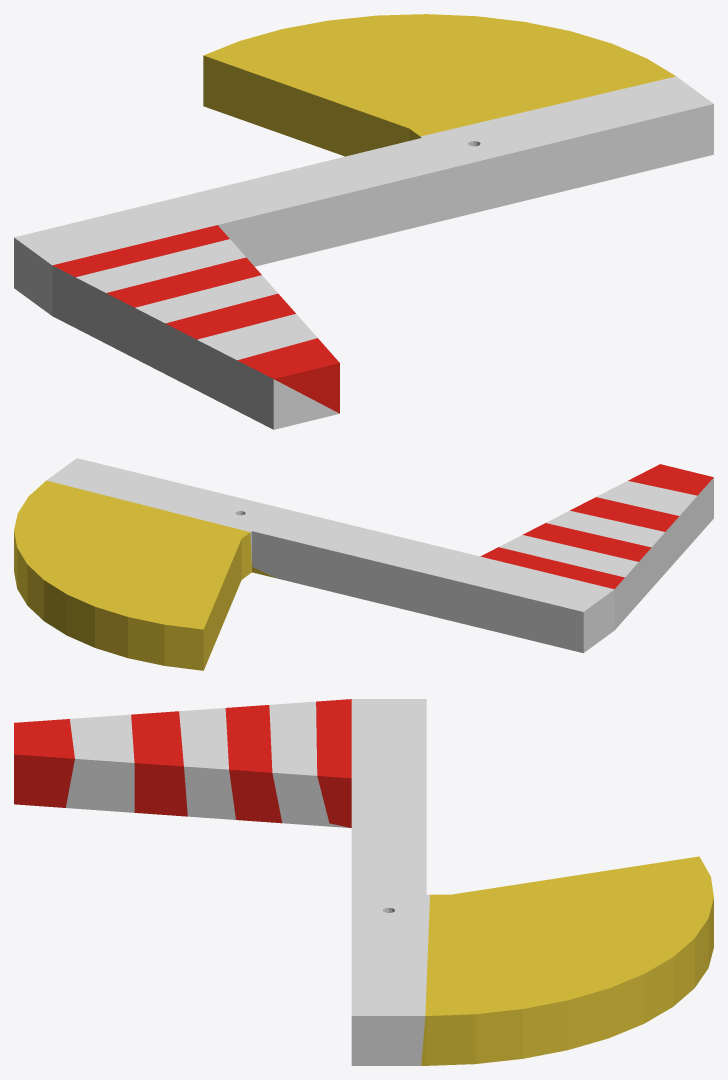
File: manchon_jaune.dae
3 views of the same model, one above another, from view 1: azimuth 30°, elevation 25°; view 2: azimuth 150°, elevation 25°; view 3: azimuth 270°, elevation 25° (orthographic). The views are drawn at different scales.
Visible parts, largest first — view 1: Manchon Bleu, Manchon Bleu.001, Manchon Bleu.002, Manchon Bleu.007, Manchon Bleu.006, Manchon Bleu.008, Manchon Bleu.005, Manchon Bleu.003, Manchon Bleu.004; view 2: Manchon Bleu, Manchon Bleu.001, Manchon Bleu.007, Manchon Bleu.006, Manchon Bleu.008, Manchon Bleu.005, Manchon Bleu.003, Manchon Bleu.004, Manchon Bleu.002; view 3: Manchon Bleu.001, Manchon Bleu, Manchon Bleu.003, Manchon Bleu.007, Manchon Bleu.004, Manchon Bleu.006, Manchon Bleu.005, Manchon Bleu.002, Manchon Bleu.008.
Boxes of the visible parts, left/top/right/bottom form: Manchon Bleu: left=14, top=76, right=713, bottom=429; Manchon Bleu.001: left=203, top=14, right=675, bottom=156; Manchon Bleu.002: left=237, top=338, right=339, bottom=413; Manchon Bleu.007: left=76, top=239, right=245, bottom=292; Manchon Bleu.006: left=106, top=257, right=261, bottom=307; Manchon Bleu.008: left=52, top=225, right=229, bottom=277; Manchon Bleu.005: left=135, top=275, right=277, bottom=323; Manchon Bleu.003: left=197, top=314, right=317, bottom=360; Manchon Bleu.004: left=165, top=293, right=295, bottom=339; Manchon Bleu: left=46, top=458, right=713, bottom=653; Manchon Bleu.001: left=14, top=480, right=275, bottom=670; Manchon Bleu.007: left=499, top=535, right=638, bottom=577; Manchon Bleu.006: left=522, top=523, right=651, bottom=561; Manchon Bleu.008: left=480, top=547, right=624, bottom=589; Manchon Bleu.005: left=546, top=510, right=664, bottom=547; Manchon Bleu.003: left=596, top=481, right=696, bottom=515; Manchon Bleu.004: left=570, top=497, right=679, bottom=531; Manchon Bleu.002: left=628, top=464, right=713, bottom=495; Manchon Bleu.001: left=421, top=856, right=713, bottom=1065; Manchon Bleu: left=351, top=699, right=429, bottom=1065; Manchon Bleu.003: left=66, top=714, right=134, bottom=812; Manchon Bleu.007: left=269, top=701, right=349, bottom=827; Manchon Bleu.004: left=131, top=711, right=187, bottom=816; Manchon Bleu.006: left=225, top=705, right=282, bottom=823; Manchon Bleu.005: left=179, top=708, right=235, bottom=819; Manchon Bleu.002: left=14, top=719, right=74, bottom=807; Manchon Bleu.008: left=316, top=699, right=351, bottom=827.
Bounding box in the file's own units: 0.3 × 0.28 × 0.022.
